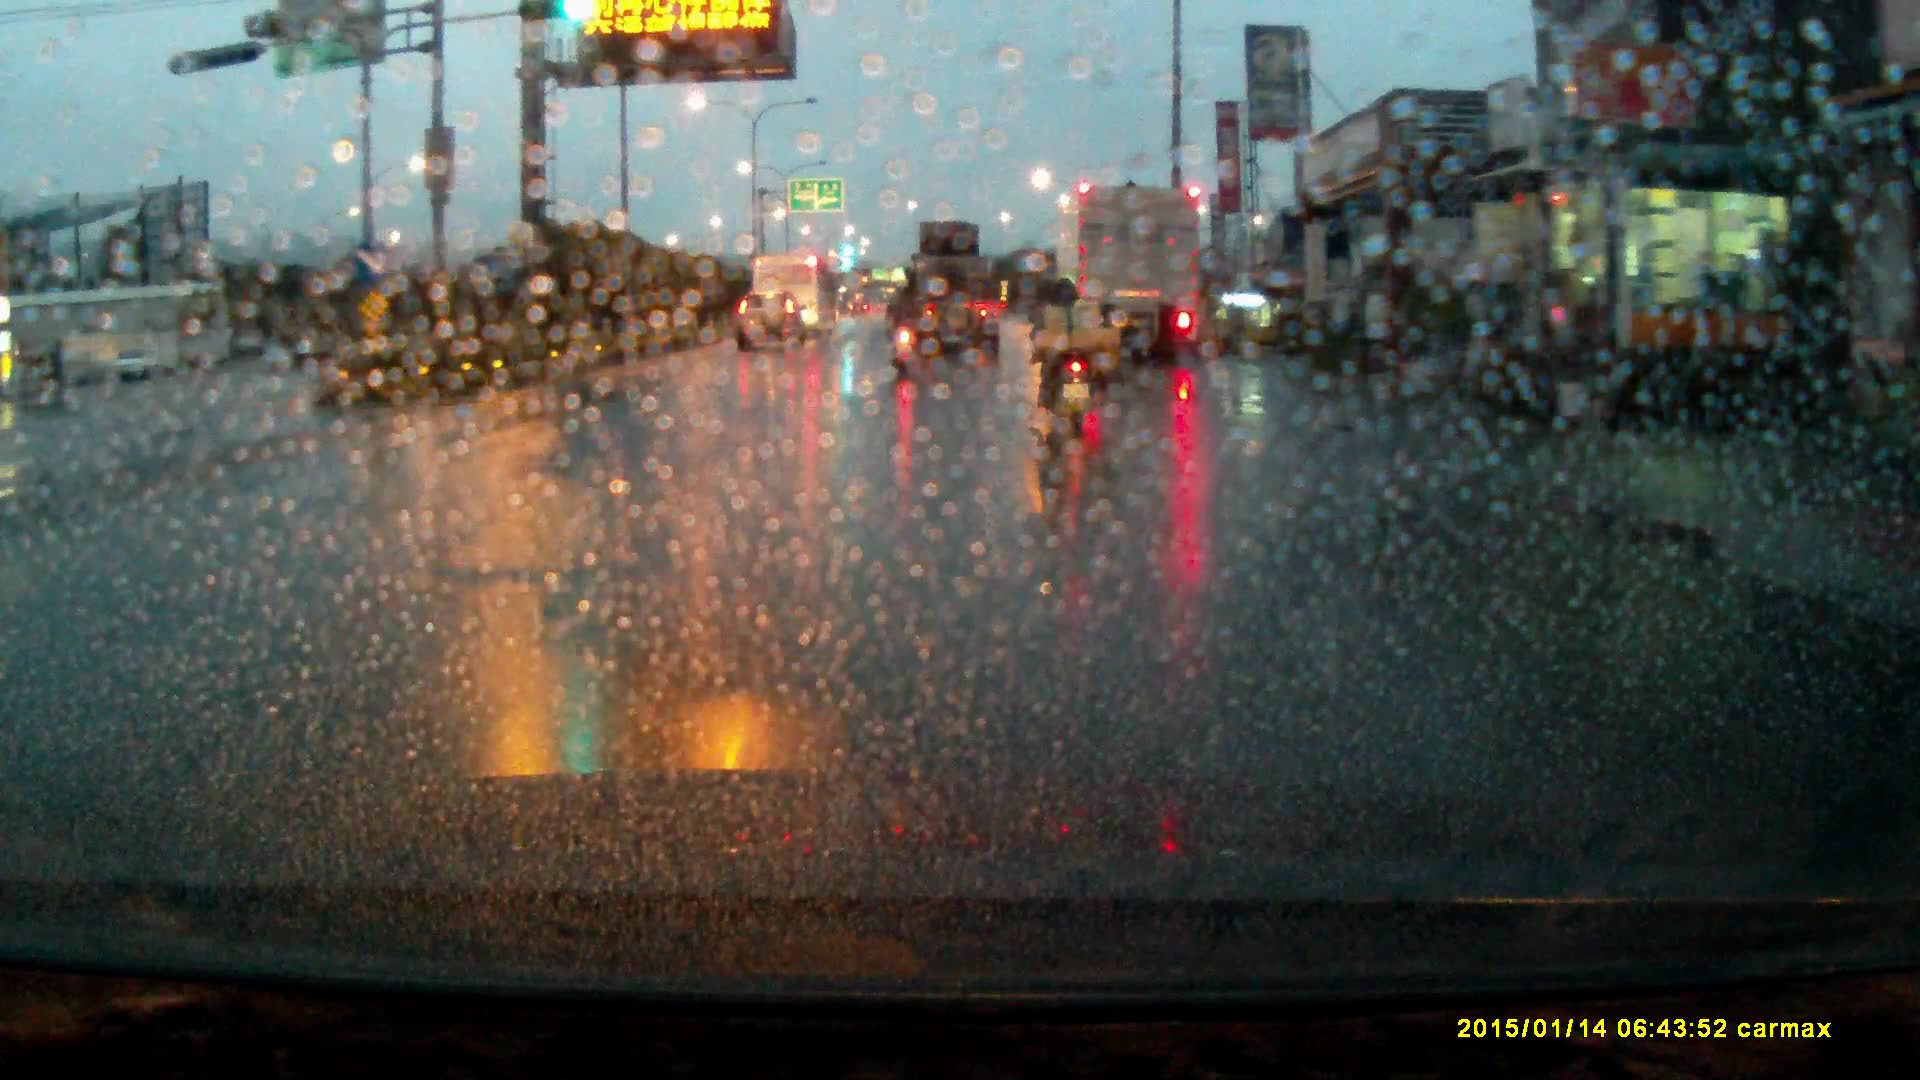rider: (1029, 266, 1111, 432), (890, 268, 929, 367)
vehicle: (1056, 185, 1209, 364), (899, 218, 1001, 357), (767, 244, 842, 327), (738, 285, 810, 351)
